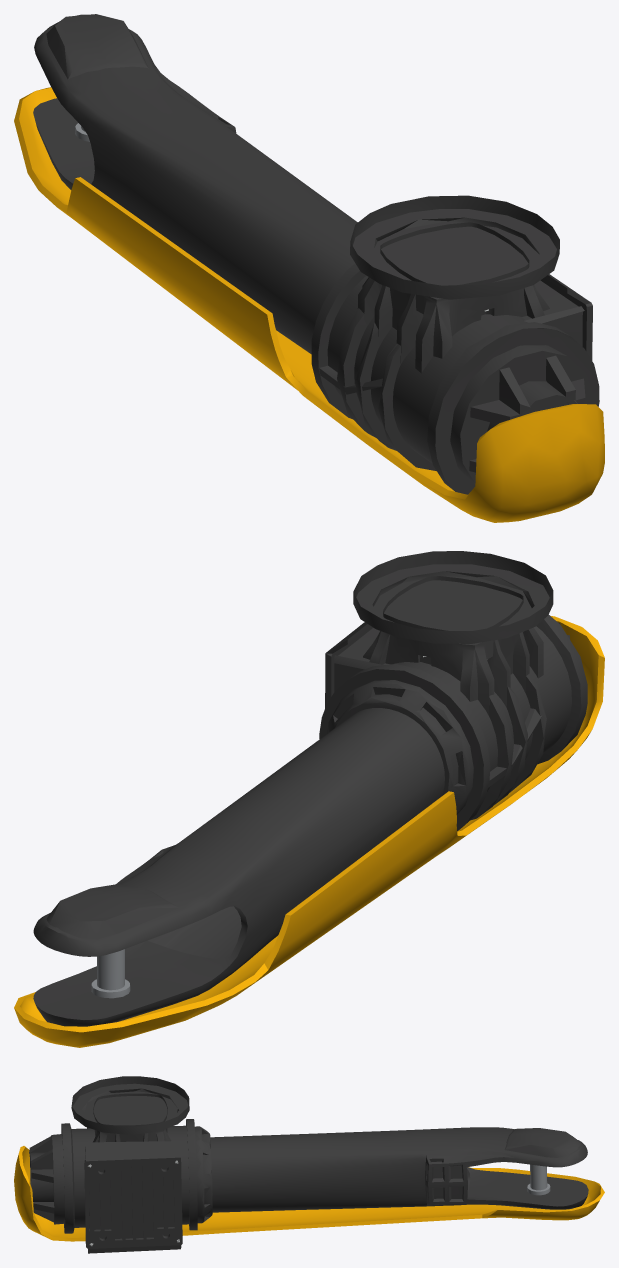
Rendered from rr_upper_leg.obj.
3 views of the same model, one above another, from view 1: azimuth 30°, elevation 25°; view 2: azimuth 150°, elevation 25°; view 3: azimuth 270°, elevation 25° (orthographic). The views are drawn at different scales.
Parts seen in each view (by area): view 1: rr_upper_leg; view 2: rr_upper_leg; view 3: rr_upper_leg.
Part boxes in pixels (x1,y1,x2,y2): rr_upper_leg: (14, 14, 604, 522); rr_upper_leg: (14, 551, 604, 1047); rr_upper_leg: (14, 1076, 604, 1253).
Bounding box in the file's own units: 0.0744 × 0.0816 × 0.3278.
